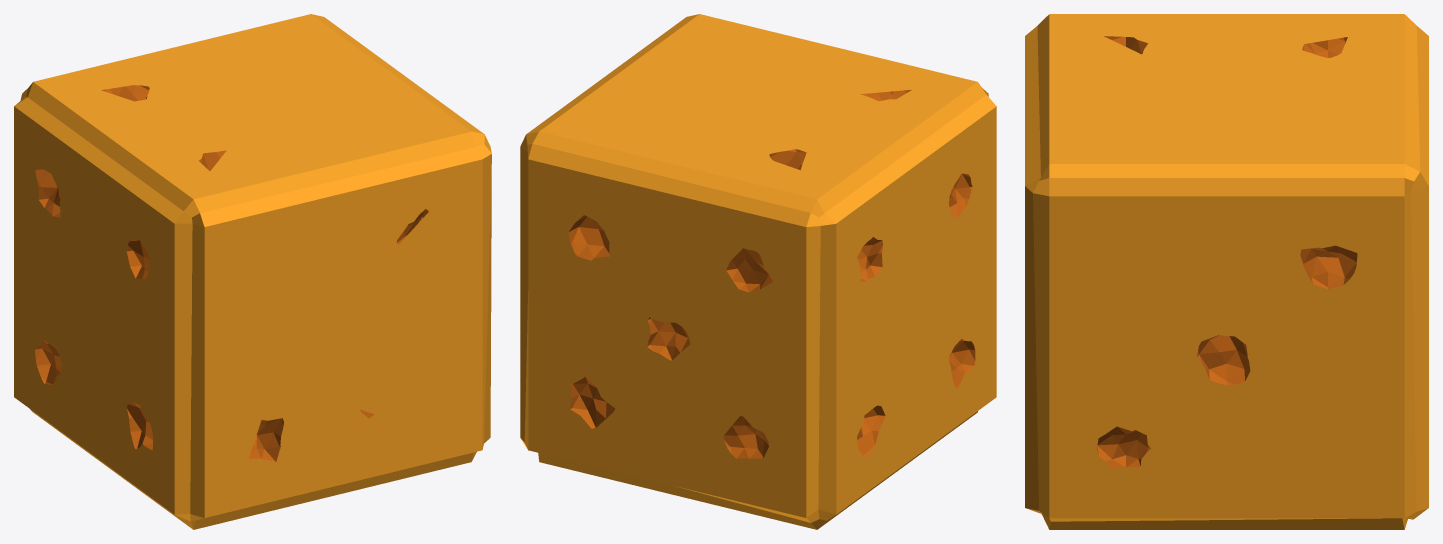
Rendered from Die_Cheddar_d6_Lucky9.fbx.
3 renders of one model, left to right at view 1: azimuth 30°, elevation 25°; view 2: azimuth 150°, elevation 25°; view 3: azimuth 270°, elevation 25°, orthographic. The views are drawn at different scales.
Parts seen in each view (by area): view 1: Die_Cheddar_d6_Lucky9; view 2: Die_Cheddar_d6_Lucky9; view 3: Die_Cheddar_d6_Lucky9.
Boxes of the visible parts, bbox=[...] form: Die_Cheddar_d6_Lucky9: bbox=[14, 14, 491, 529]; Die_Cheddar_d6_Lucky9: bbox=[520, 14, 996, 529]; Die_Cheddar_d6_Lucky9: bbox=[1025, 14, 1428, 529].
Size of the model in its own units: 1 by 1 by 1.
